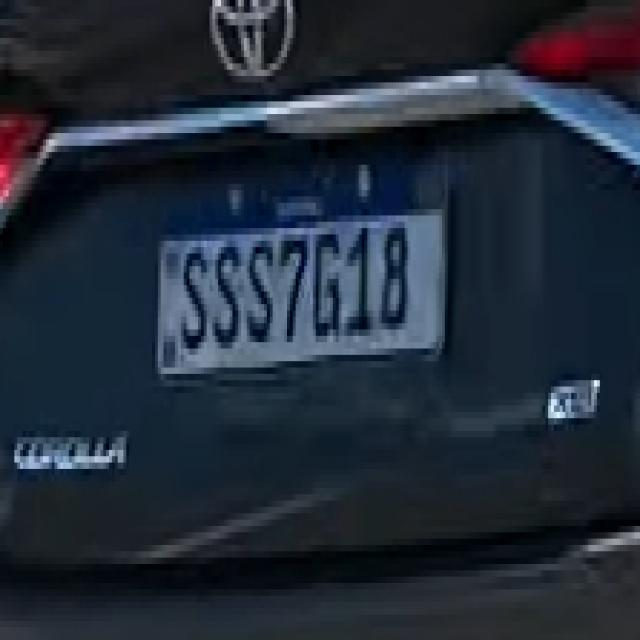Placa_mercosul_carro: (154, 139, 447, 382)
